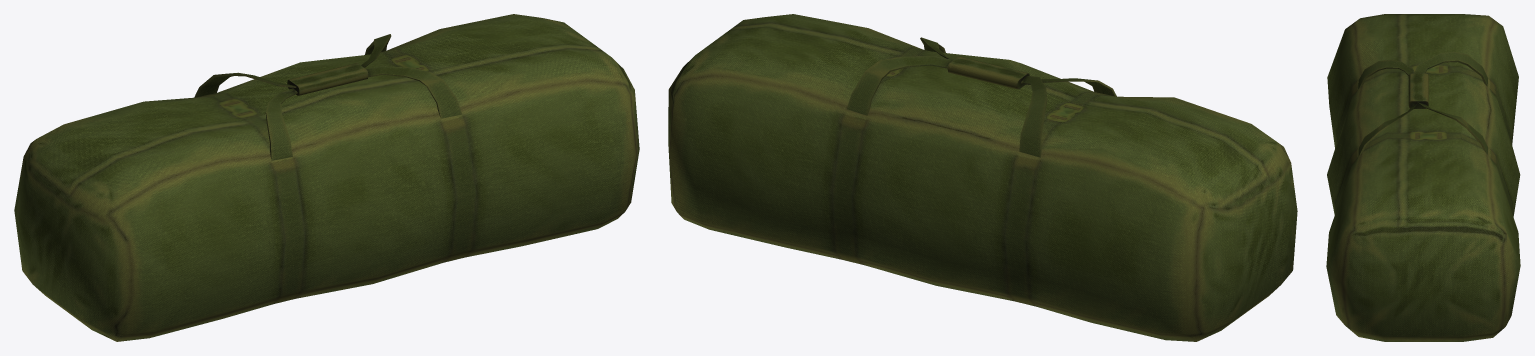
Rendered from Bag01.FBX.
3 views of the same model, side by side, from view 1: azimuth 30°, elevation 25°; view 2: azimuth 150°, elevation 25°; view 3: azimuth 270°, elevation 25° (orthographic). The views are drawn at different scales.
Visible parts, largest first — view 1: Bag01; view 2: Bag01; view 3: Bag01.
Boxes of the visible parts, x1,y1,x2,y2 form: Bag01: (14,14,639,341); Bag01: (668,14,1297,341); Bag01: (1326,14,1520,341).
Size of what is drawn, in the model's own units: 1.55 by 0.516 by 0.57.
